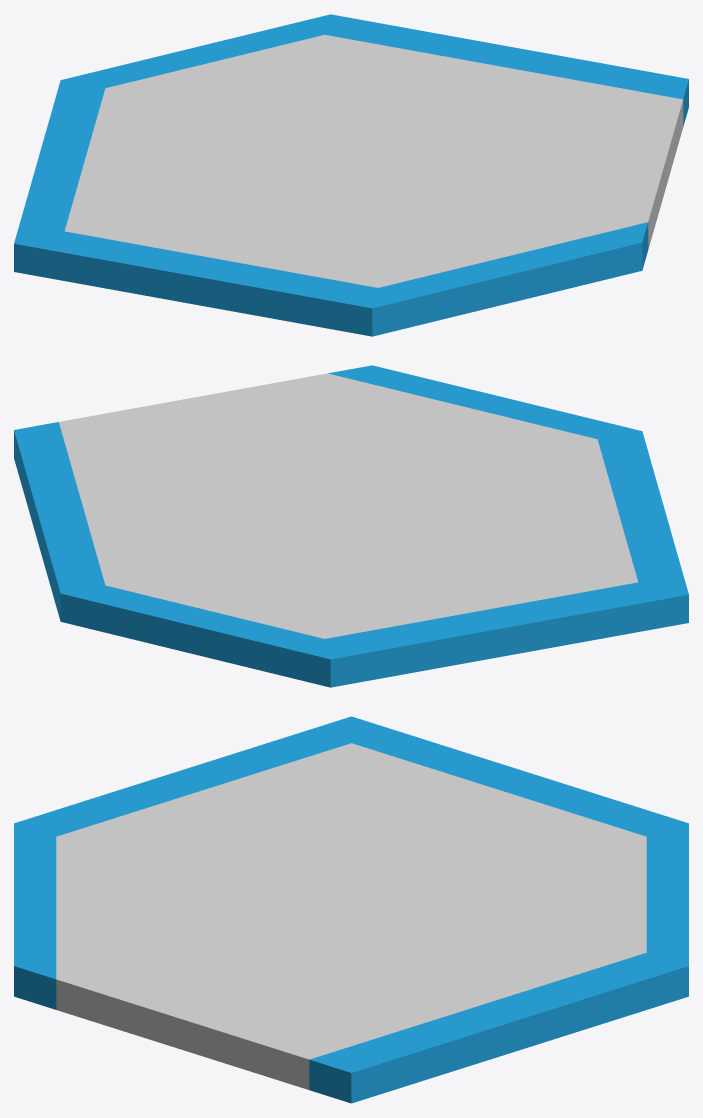
3 views of the same model, one above another, from view 1: azimuth 30°, elevation 25°; view 2: azimuth 150°, elevation 25°; view 3: azimuth 270°, elevation 25° (orthographic). The views are drawn at different scales.
Visible parts, largest first — view 1: Hexagon, SWx, S.001, NE.001, NWx, Nx; view 2: Hexagon, NWx, Nx, NE.001, SWx, S.001; view 3: Hexagon, NE.001, NWx, SWx, S.001, Nx.
Part boxes in pixels (x1,y1,x2,y2): Hexagon: (65,35,683,287); SWx: (14,231,377,336); S.001: (372,222,648,336); NE.001: (325,14,688,126); NWx: (14,80,105,243); Nx: (61,14,330,88); Hexagon: (59,373,637,638); NWx: (325,582,688,687); Nx: (60,585,330,687); NE.001: (14,422,104,620); SWx: (597,431,688,594); S.001: (328,365,641,439); Hexagon: (56,743,646,1089); NE.001: (309,952,688,1103); NWx: (351,716,688,836); SWx: (14,716,351,836); S.001: (14,823,56,1009); Nx: (646,823,688,965).
Bounding box in the file's own units: 5 × 4 × 0.2.
